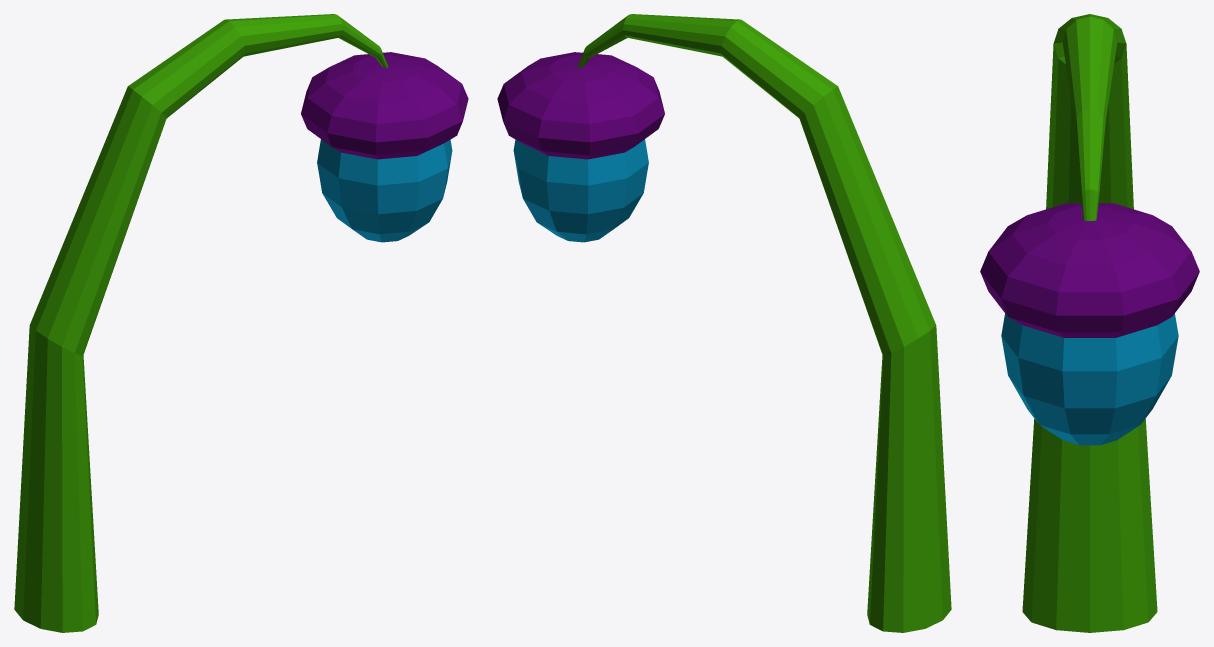
Rendered from MagicPlant_Blue.fbx.
The picture shows the model from 3 angles, left to right: view 1: azimuth 30°, elevation 25°; view 2: azimuth 150°, elevation 25°; view 3: azimuth 270°, elevation 25°; orthographic projection. The views are drawn at different scales.
Visible parts, largest first — view 1: Plant; view 2: Plant; view 3: Plant.
Part boxes in pixels (x1=…): Plant: x1=14, y1=14, x2=468, y2=632; Plant: x1=497, y1=14, x2=951, y2=632; Plant: x1=980, y1=14, x2=1199, y2=632.
Size of the model in its own units: 82.74 by 100 by 28.43.
